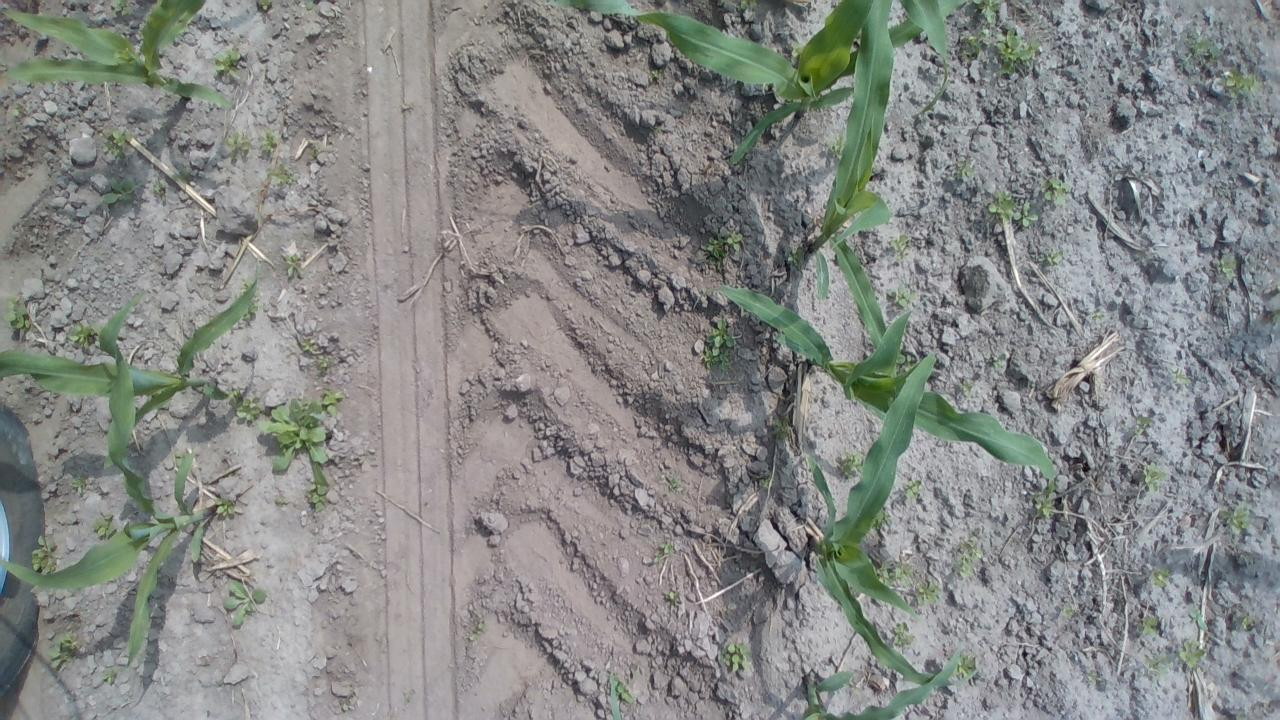Maize: (710, 269, 1057, 482), (536, 0, 968, 167), (801, 350, 964, 697), (0, 260, 260, 468), (0, 449, 220, 672), (804, 0, 900, 371), (0, 0, 235, 110), (608, 649, 962, 720)
Weeds: (254, 385, 347, 495), (992, 26, 1043, 76), (701, 318, 738, 376), (223, 582, 267, 628), (989, 190, 1040, 229), (697, 232, 743, 271), (46, 630, 82, 672), (1218, 64, 1264, 96), (225, 389, 263, 423), (0, 294, 33, 332), (100, 178, 144, 206), (97, 126, 133, 160), (874, 556, 914, 586), (718, 641, 754, 673), (1180, 35, 1218, 65), (884, 286, 930, 310), (1040, 174, 1072, 208), (30, 534, 57, 574), (959, 28, 990, 62), (1221, 500, 1251, 535), (64, 322, 102, 348), (959, 534, 982, 576), (212, 47, 242, 79), (1030, 483, 1056, 519), (1141, 462, 1169, 495), (1179, 638, 1207, 670), (224, 130, 251, 162), (839, 448, 866, 480), (89, 510, 117, 539), (968, 0, 1001, 24), (1032, 246, 1068, 268), (266, 161, 298, 185), (1142, 652, 1168, 679), (916, 582, 944, 606), (212, 496, 243, 517), (256, 126, 279, 154), (889, 232, 912, 260), (306, 484, 328, 512), (952, 654, 976, 679), (174, 446, 200, 468), (1189, 605, 1208, 632), (894, 622, 914, 646), (1151, 567, 1170, 591), (174, 162, 194, 184), (1138, 614, 1158, 636), (786, 244, 805, 267), (1170, 366, 1192, 385), (1220, 254, 1236, 280), (616, 682, 634, 705), (829, 135, 846, 159), (111, 0, 136, 16), (70, 473, 88, 495), (286, 254, 304, 276), (904, 478, 923, 498), (872, 510, 892, 529), (774, 416, 790, 439), (300, 336, 320, 354), (318, 353, 338, 371), (961, 380, 976, 402), (790, 41, 804, 64), (472, 622, 488, 642), (955, 160, 975, 176), (1135, 417, 1152, 434), (1058, 602, 1076, 618), (242, 304, 259, 320), (656, 542, 672, 559), (101, 668, 117, 684), (992, 351, 1006, 369), (664, 591, 680, 606), (760, 472, 775, 488), (152, 178, 166, 194), (1240, 616, 1256, 630), (1088, 307, 1104, 321), (308, 142, 320, 160), (240, 280, 254, 295), (9, 103, 23, 118), (1086, 671, 1102, 684), (649, 69, 664, 82), (341, 701, 358, 712), (919, 101, 934, 113), (738, 0, 760, 8), (257, 0, 272, 11), (402, 687, 413, 702), (672, 476, 684, 487), (275, 496, 288, 506), (1272, 308, 1280, 324), (30, 584, 40, 594), (306, 0, 315, 10), (654, 126, 662, 133)
